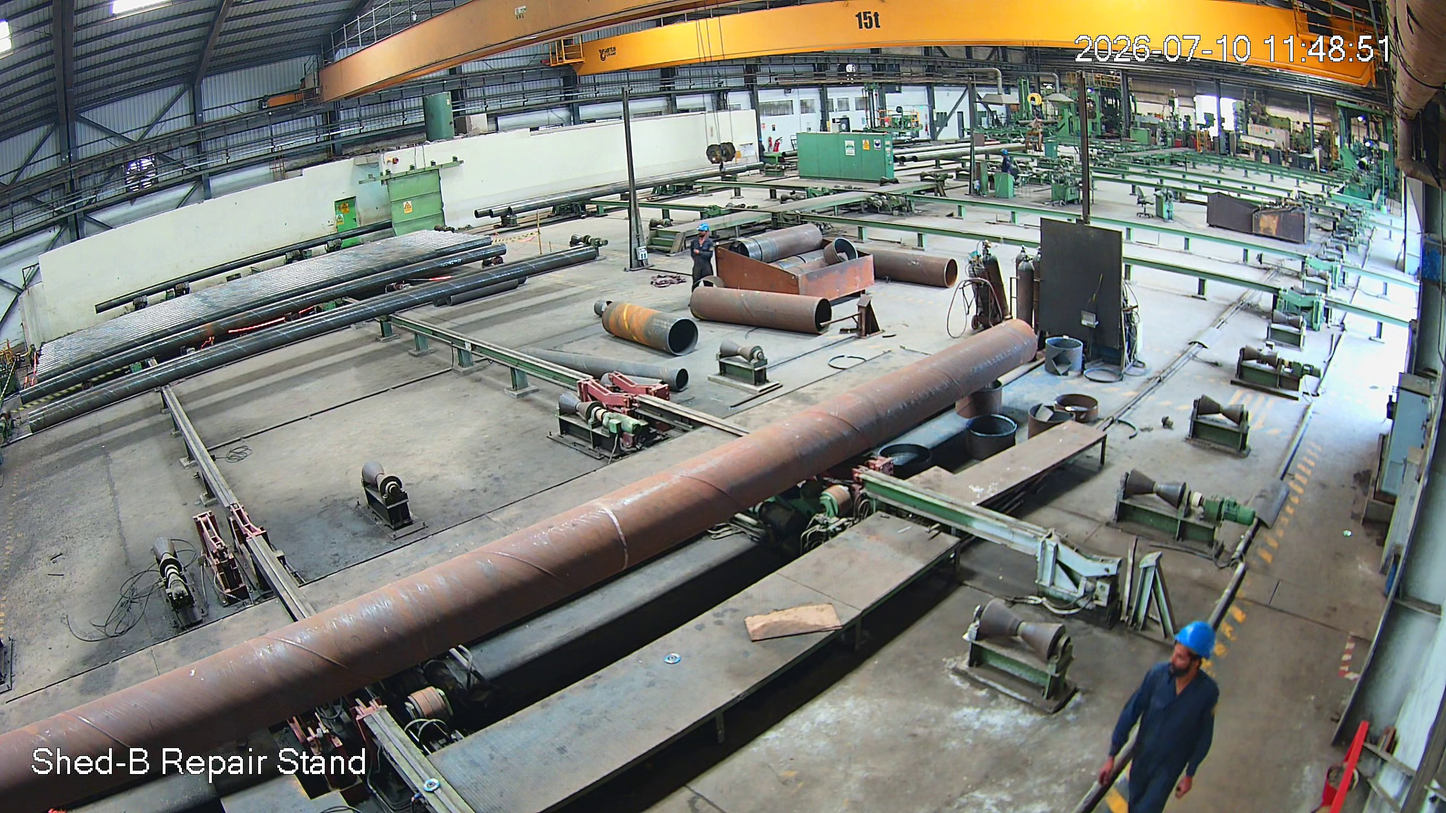Helmet: (1157, 610, 1222, 724), (693, 219, 712, 245)
Person: (1085, 615, 1233, 813), (685, 223, 718, 302)
